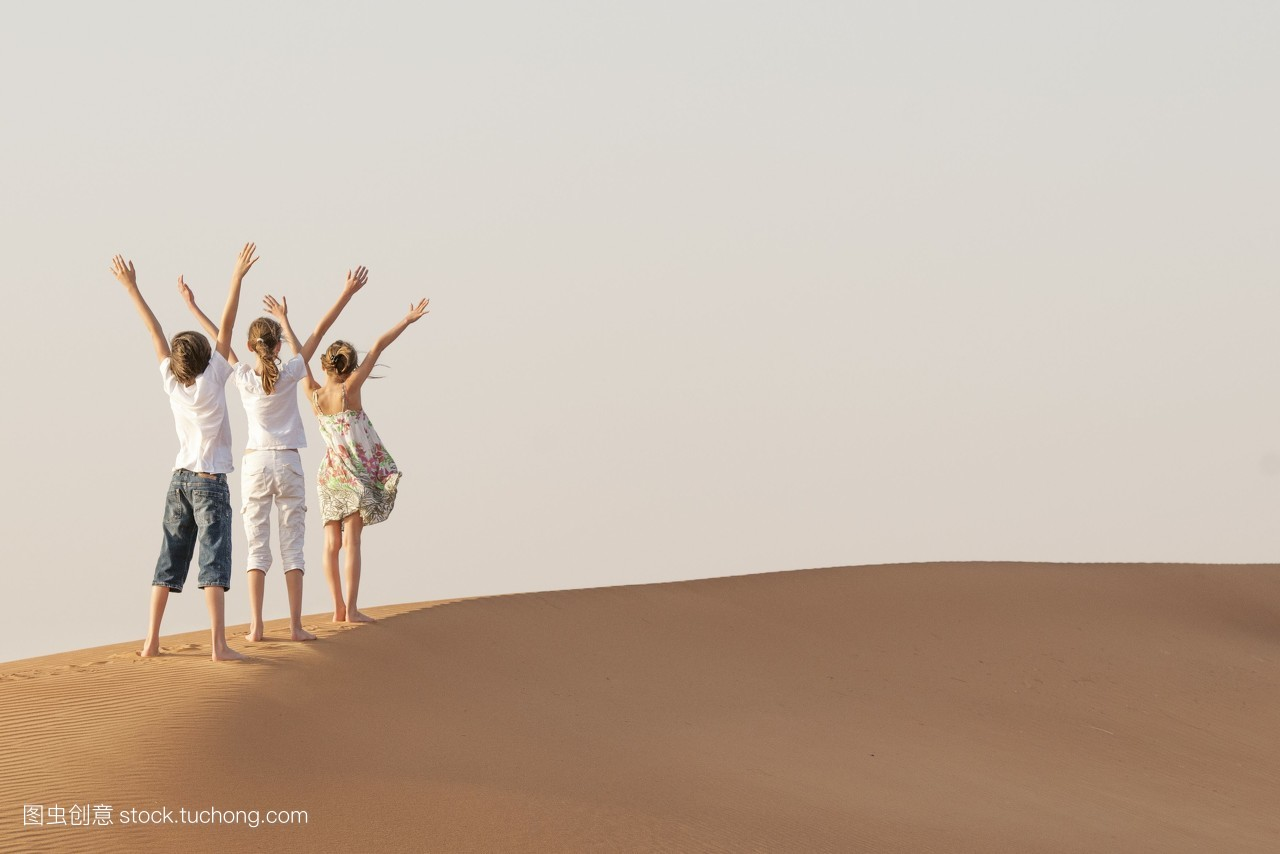handsup: (175, 220, 370, 651), (109, 241, 273, 671), (257, 279, 446, 633)
